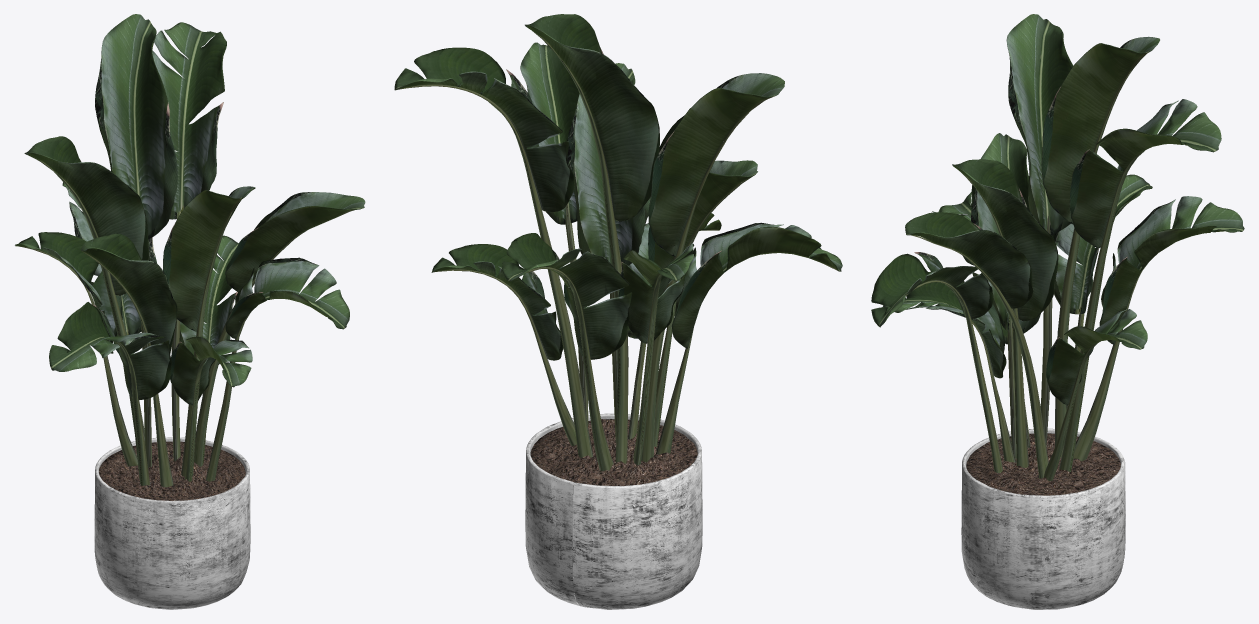
The model's file is PLANT.fbx.
3 views of the same model, side by side, from view 1: azimuth 30°, elevation 25°; view 2: azimuth 150°, elevation 25°; view 3: azimuth 270°, elevation 25° (orthographic). The views are drawn at different scales.
Visible parts, largest first — view 1: G-AUL11, G-AUL10; view 2: G-AUL11, G-AUL10; view 3: G-AUL11, G-AUL10.
Boxes of the visible parts, <box> form: G-AUL11: <box>15,14,365,487</box>; G-AUL10: <box>94,437,250,609</box>; G-AUL11: <box>394,14,842,471</box>; G-AUL10: <box>525,413,702,609</box>; G-AUL11: <box>871,14,1244,481</box>; G-AUL10: <box>961,428,1125,609</box>.
Bounding box in the file's own units: 108 × 188 × 114.
5 materials, 5 textured.
